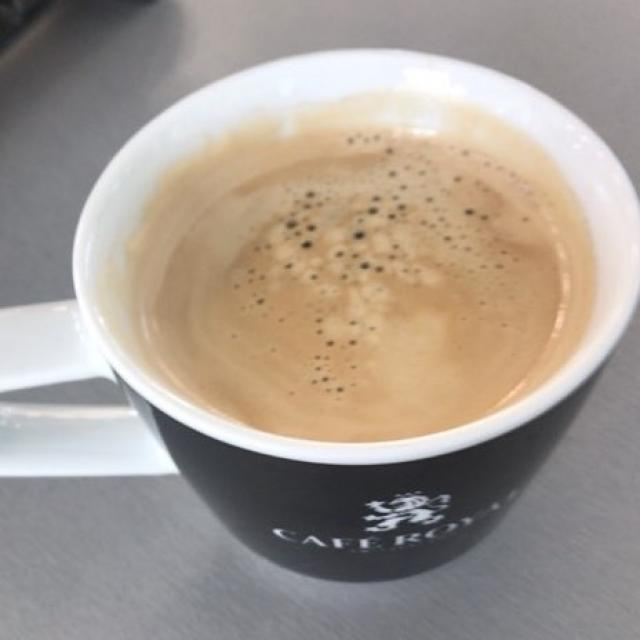coffee: (117, 106, 576, 432)
